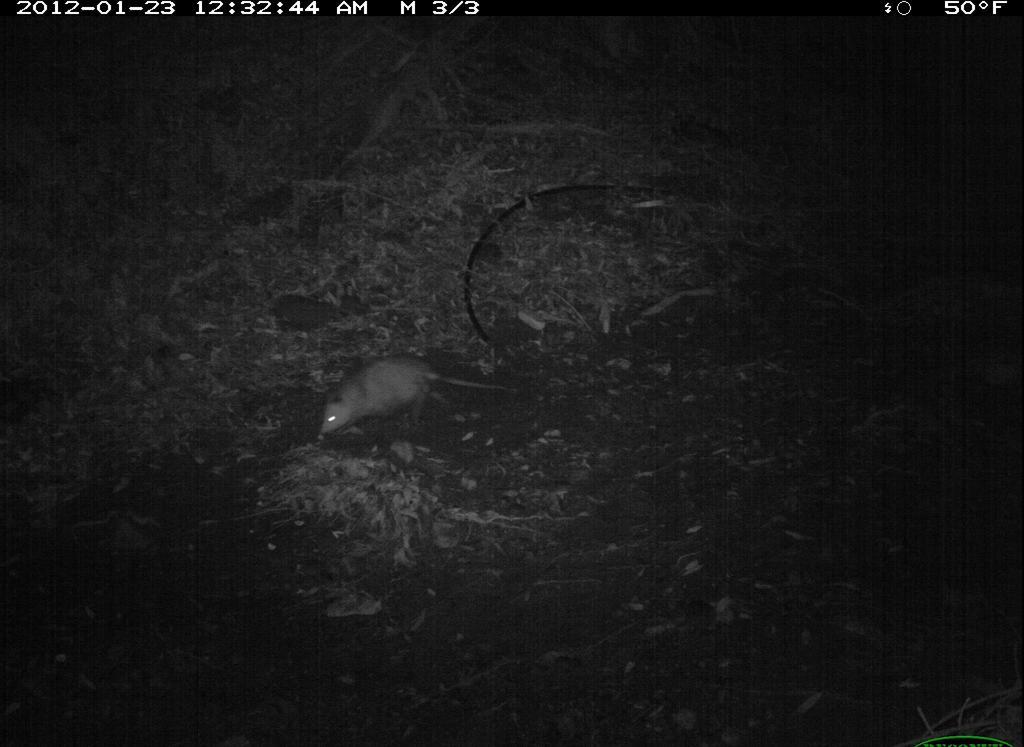opossum: (297, 349, 521, 453)
